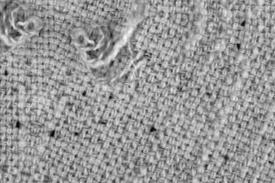snag: (70, 19, 152, 94), (3, 10, 47, 51)
